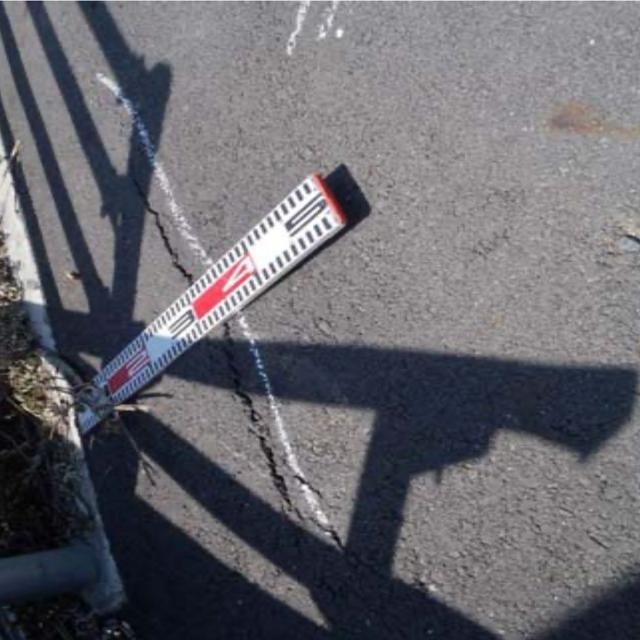crack: (116, 161, 333, 523)
